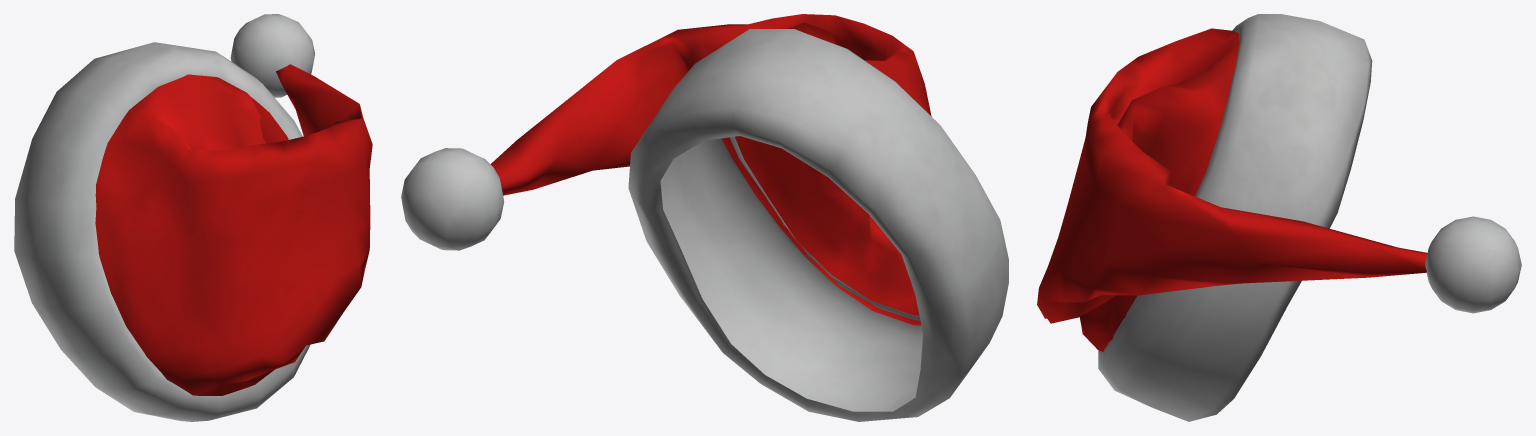
The model's file is Santa_Claus_Hat_convert.obj.
3 views of the same model, side by side, from view 1: azimuth 30°, elevation 25°; view 2: azimuth 150°, elevation 25°; view 3: azimuth 270°, elevation 25° (orthographic). The views are drawn at different scales.
Visible parts, largest first — view 1: Santa_Claus_top_pivot, Santa_Claus_fur_pivot; view 2: Santa_Claus_fur_pivot, Santa_Claus_top_pivot; view 3: Santa_Claus_fur_pivot, Santa_Claus_top_pivot.
Part boxes in pixels (box(x1,y1,x2,y2)): Santa_Claus_top_pivot: box(95, 64, 372, 395); Santa_Claus_fur_pivot: box(14, 14, 314, 421); Santa_Claus_fur_pivot: box(401, 29, 1008, 421); Santa_Claus_top_pivot: box(490, 14, 931, 325); Santa_Claus_fur_pivot: box(1098, 14, 1521, 421); Santa_Claus_top_pivot: box(1037, 28, 1427, 351).
Bounding box in the file's own units: 29.82 × 25.44 × 29.23.
1 material, 1 textured.
